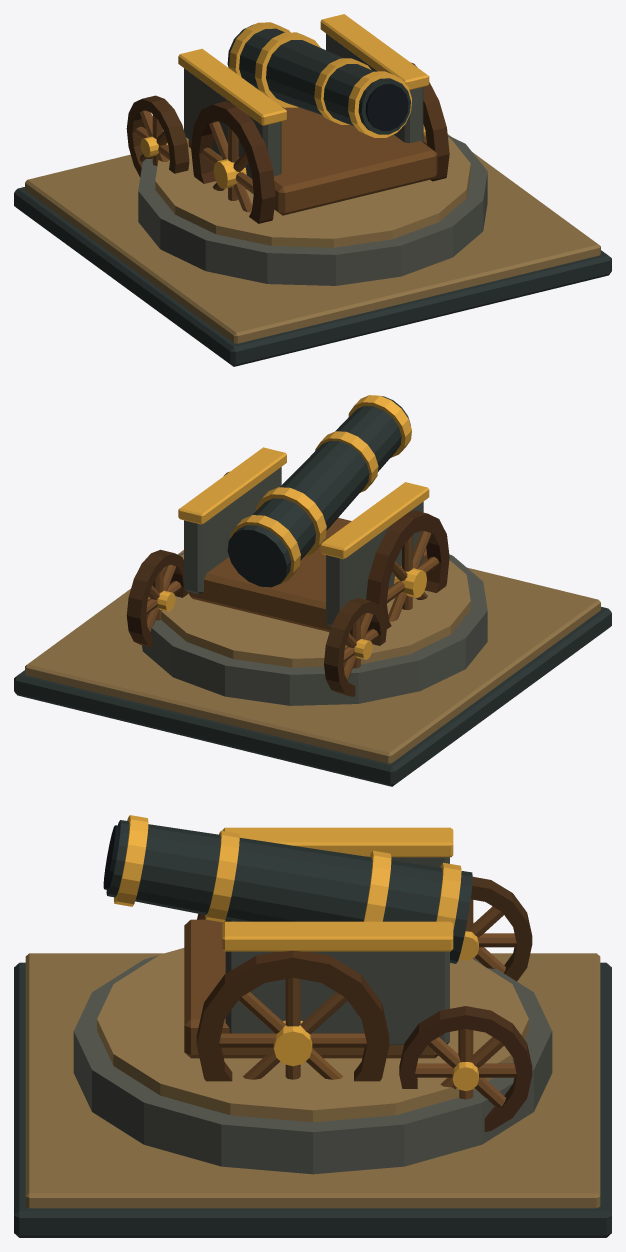
3 views of the same model, one above another, from view 1: azimuth 30°, elevation 25°; view 2: azimuth 150°, elevation 25°; view 3: azimuth 270°, elevation 25° (orthographic). The views are drawn at different scales.
Parts seen in each view (by area): view 1: cannon_level3_structure, cannon_level3_metal; view 2: cannon_level3_structure, cannon_level3_metal; view 3: cannon_level3_structure, cannon_level3_metal.
Part boxes in pixels (x1,y1,x2,y2): cannon_level3_structure: (14, 24, 611, 366); cannon_level3_metal: (140, 14, 429, 188); cannon_level3_structure: (14, 396, 611, 786); cannon_level3_metal: (148, 395, 429, 659); cannon_level3_structure: (14, 820, 611, 1237); cannon_level3_metal: (114, 815, 478, 1091).
Bounding box in the file's own units: 3.6 × 1.96 × 3.6.
